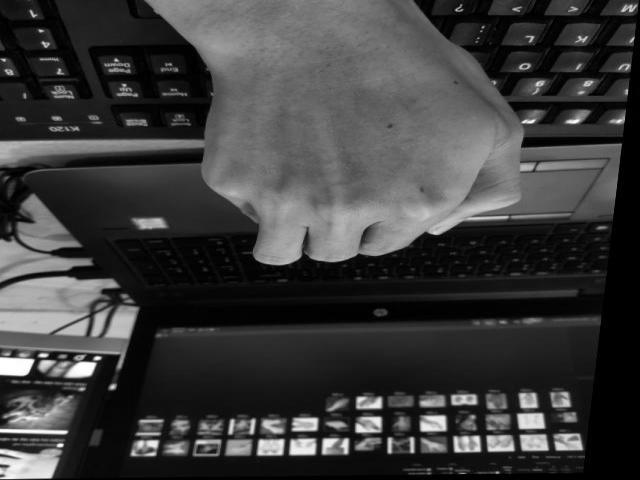not-gloved: (201, 1, 523, 269)
